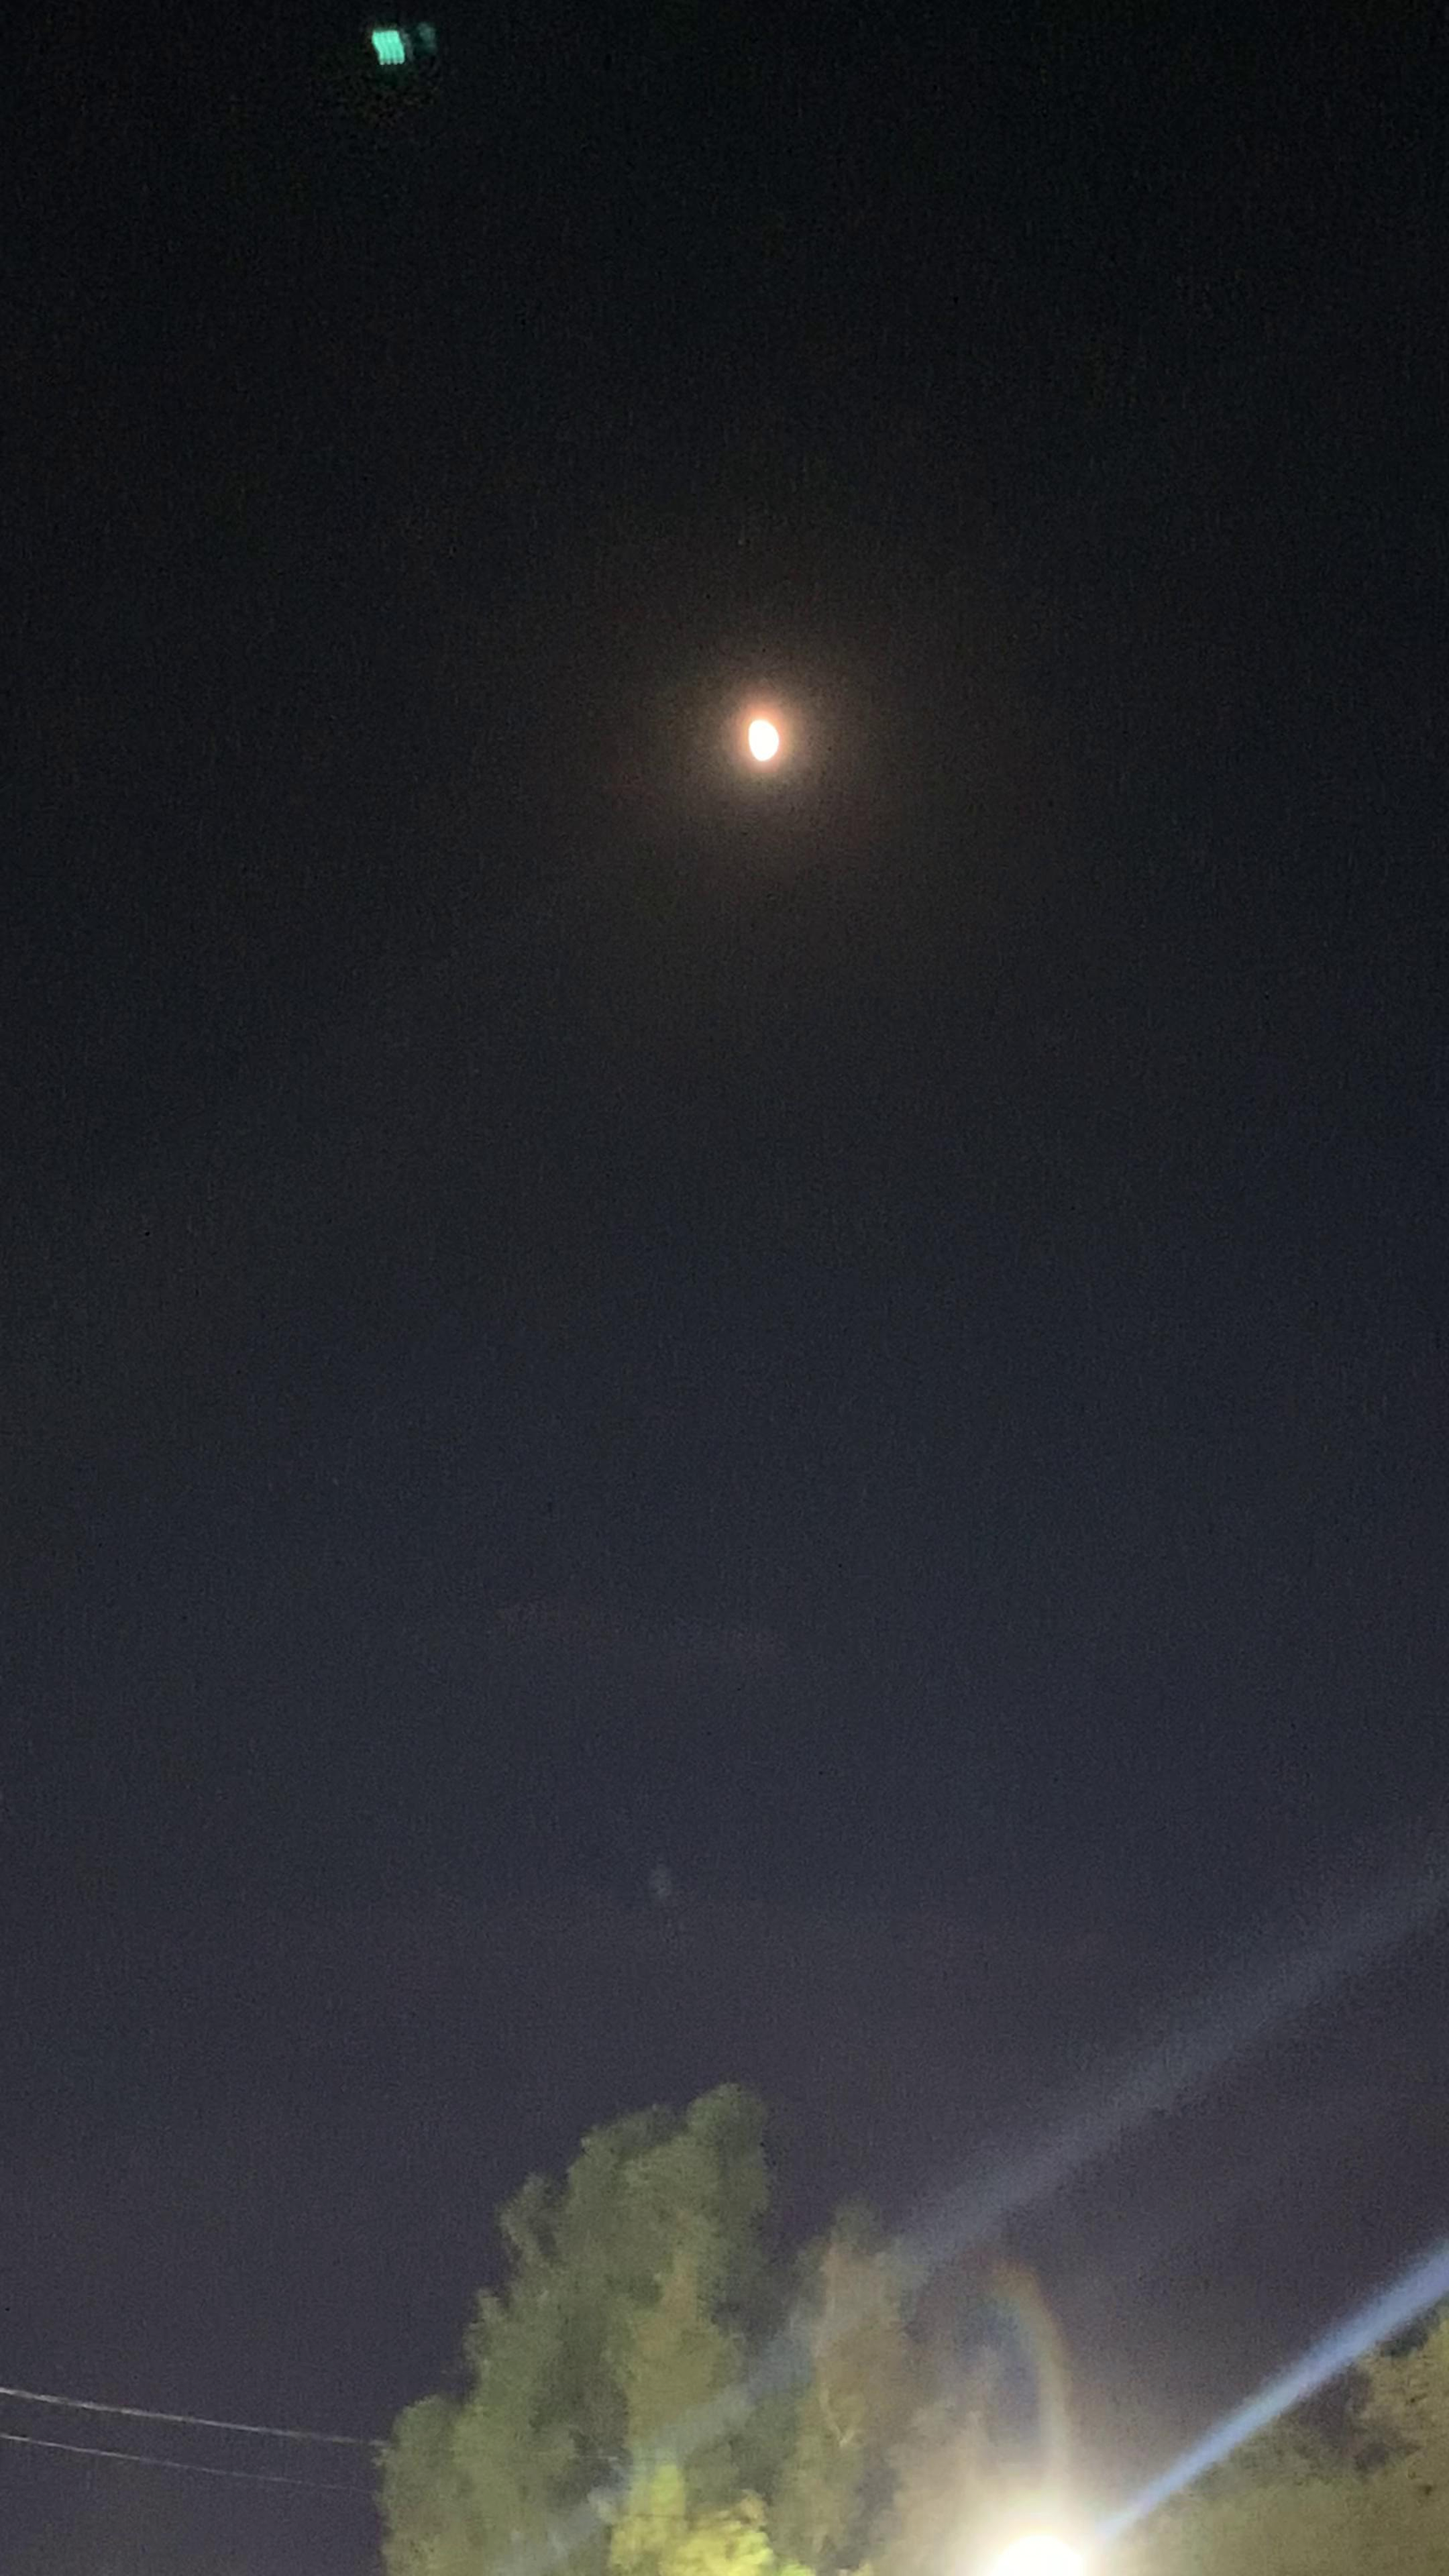moon: (692, 678, 853, 824)
